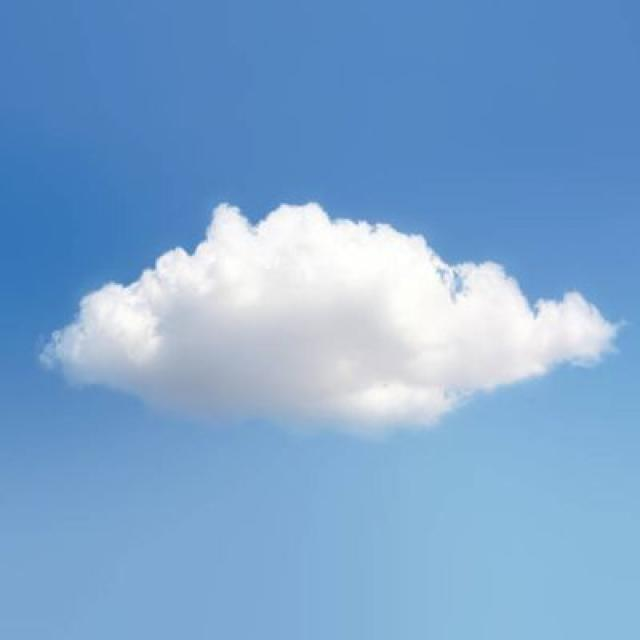Cu: (32, 170, 633, 465)
